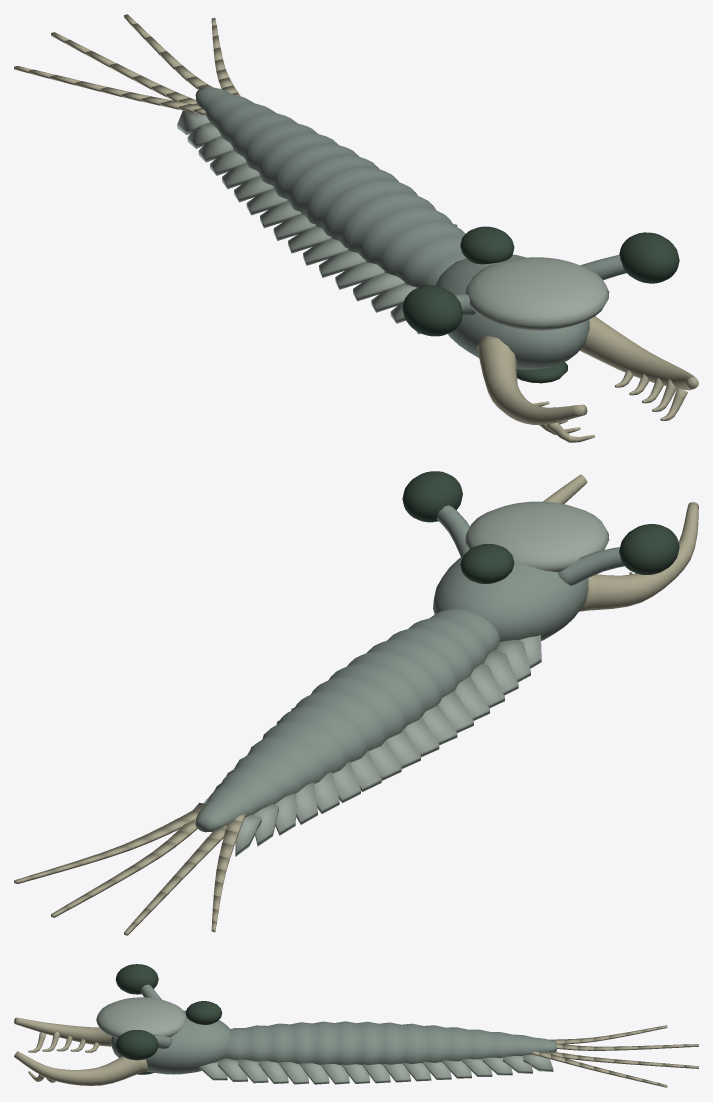
The model's file is stanleycaris.glb.
3 renders of one model, top to bottom at view 1: azimuth 30°, elevation 25°; view 2: azimuth 150°, elevation 25°; view 3: azimuth 270°, elevation 25°, orthographic. The views are drawn at different scales.
Visible parts, largest first — view 1: soft segmented trunk, short soft head and small domed anterior plate, seventeen paired swimming flaps, paired curved rake appendages, three eyes with embedded stalk roots, four delicate caudal blades; view 2: soft segmented trunk, short soft head and small domed anterior plate, seventeen paired swimming flaps, three eyes with embedded stalk roots, four delicate caudal blades, paired curved rake appendages; view 3: soft segmented trunk, seventeen paired swimming flaps, short soft head and small domed anterior plate, paired curved rake appendages, three eyes with embedded stalk roots, four delicate caudal blades.
Boxes of the visible parts, bbox=[...] form: soft segmented trunk: bbox=[195, 87, 466, 287]; short soft head and small domed anterior plate: bbox=[435, 254, 609, 383]; seventeen paired swimming flaps: bbox=[177, 110, 457, 334]; paired curved rake appendages: bbox=[477, 316, 698, 442]; three eyes with embedded stalk roots: bbox=[402, 226, 679, 336]; four delicate caudal blades: bbox=[14, 14, 240, 114]; soft segmented trunk: bbox=[195, 609, 500, 832]; short soft head and small domed anterior plate: bbox=[433, 501, 609, 641]; seventeen paired swimming flaps: bbox=[193, 635, 541, 856]; three eyes with embedded stalk roots: bbox=[402, 471, 679, 585]; four delicate caudal blades: bbox=[14, 804, 245, 935]; paired curved rake appendages: bbox=[543, 474, 698, 611]; soft segmented trunk: bbox=[225, 1021, 556, 1065]; seventeen paired swimming flaps: bbox=[199, 1054, 553, 1084]; short soft head and small domed anterior plate: bbox=[96, 997, 230, 1074]; paired curved rake appendages: bbox=[14, 1017, 147, 1085]; three eyes with embedded stalk roots: bbox=[115, 964, 222, 1060]; four delicate caudal blades: bbox=[530, 1025, 698, 1087].
Bounding box in the file's own units: 0.0364 × 0.0151 × 0.1303.
